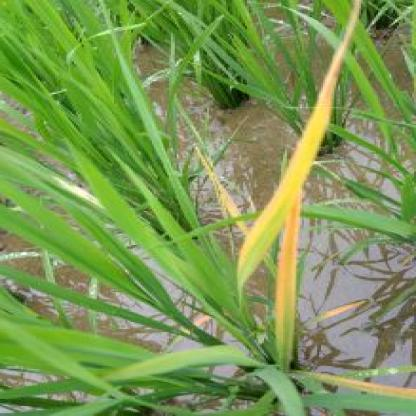Tungro: (251, 10, 342, 357)
